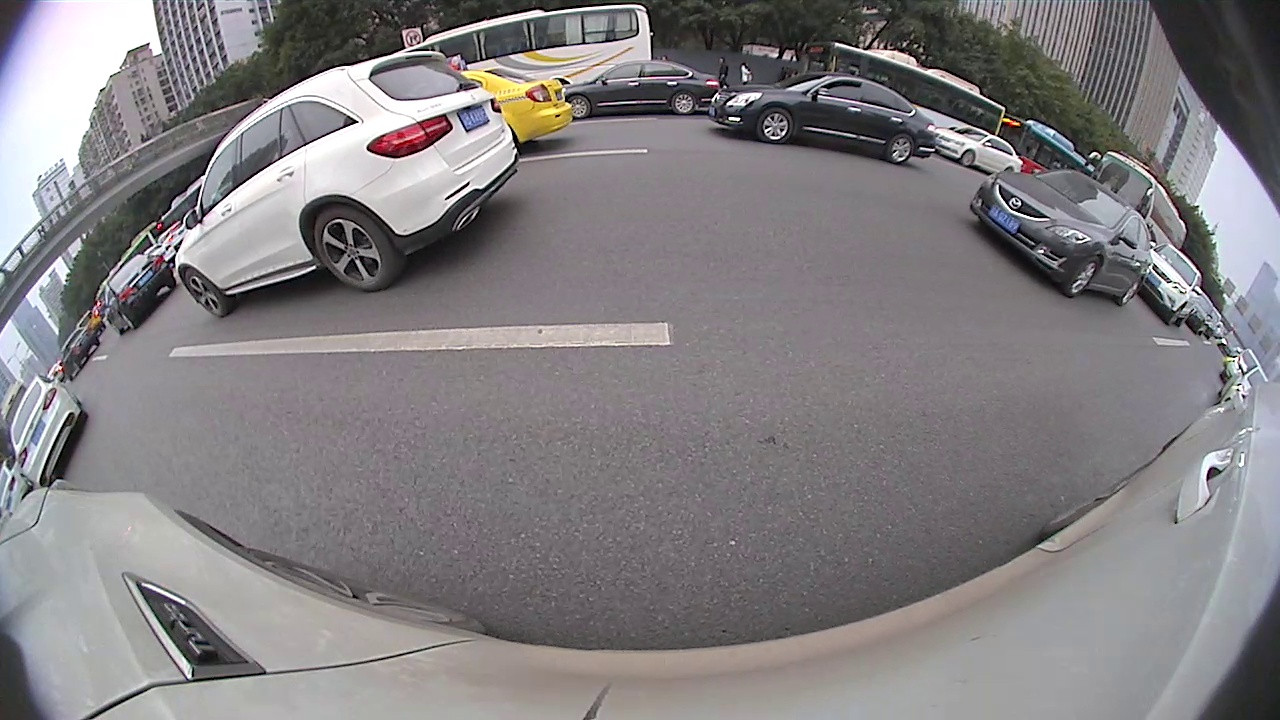bus: (391, 2, 655, 95), (802, 38, 1007, 136), (1083, 143, 1187, 255)
car: (173, 48, 520, 318), (969, 167, 1155, 309), (712, 70, 942, 166), (553, 58, 727, 115), (9, 375, 86, 487), (105, 252, 178, 335), (1133, 244, 1202, 329), (930, 124, 1024, 176), (58, 327, 102, 380)
front: (183, 268, 226, 320), (1067, 257, 1100, 297), (758, 108, 792, 143), (569, 98, 588, 118), (961, 149, 973, 169)
rear: (315, 210, 396, 291), (886, 133, 913, 166), (1120, 280, 1139, 306), (673, 92, 695, 114)
